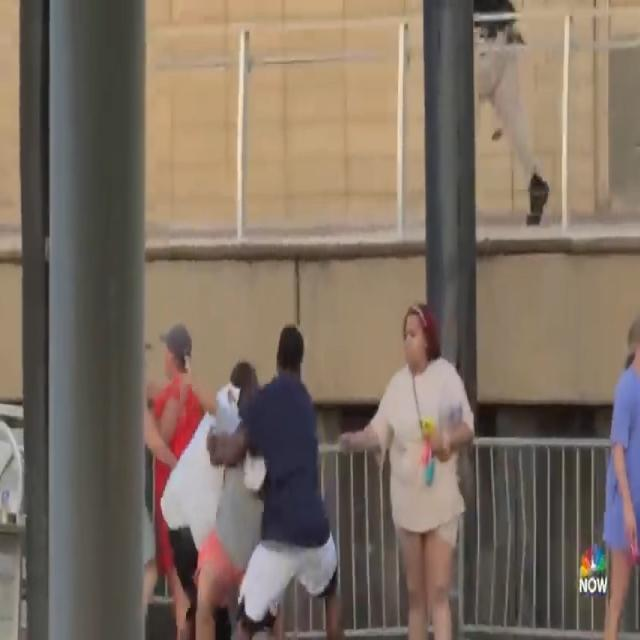fight: (162, 302, 336, 640)
non-fight: (347, 295, 478, 637)
